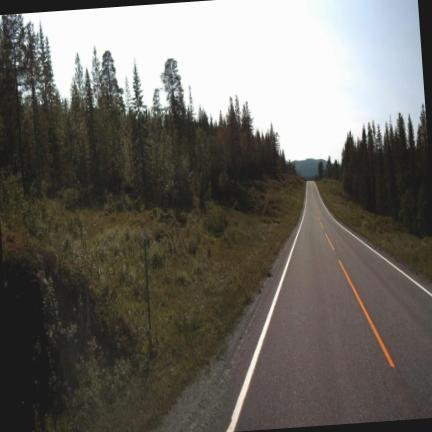Road: (229, 182, 431, 430)
